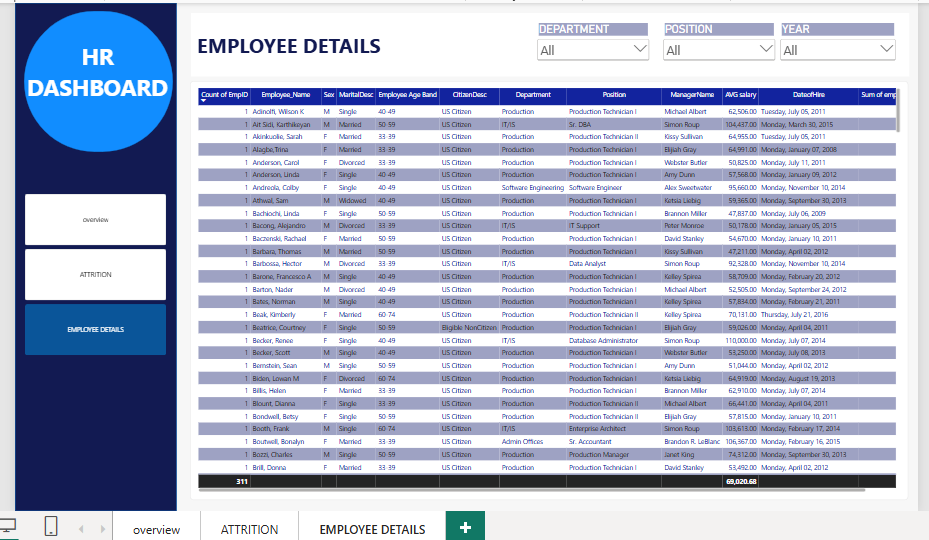

The dashboard page shown, as its layout file describes it:
{"tool":"powerbi","page":{"name":"EMPLOYEE DETAILS","canvas":[1920,1080],"ordinal":2},"visuals":[{"type":"textbox","box":[373.2,22.1,1527.2,135],"z":0},{"type":"shape","box":[0,0,343.7,1080.3],"z":2000},{"type":"shape","box":[19.6,17.2,316.7,299.5],"z":3000},{"type":"textbox","box":[24.6,81,299.5,147.3],"z":4000},{"type":"textbox","box":[386.5,60.2,399.2,76],"z":5000},{"type":"pageNavigator","box":[23.7,405.9,299.3,77],"z":6000},{"type":"slicer","fields":{"Values":["date table.year"]},"box":[1621.3,43.4,255.3,91.9],"z":7000},{"type":"tableEx","fields":{"Values":["CountNonNull(Power BI Project HR DASHBOARD DATA SET.EmpID)","Power BI Project HR DASHBOARD DATA SET.Employee_Name","Power BI Project HR DASHBOARD DATA SET.Sex","Power BI Project HR DASHBOARD DATA SET.MaritalDesc","Power BI Project HR DASHBOARD DATA SET.Employee Age Band","Power BI Project HR DASHBOARD DATA SET.CitizenDesc","Power BI Project HR DASHBOARD DATA SET.Department","Power BI Project HR DASHBOARD DATA SET.Position","Power BI Project HR DASHBOARD DATA SET.ManagerName","Power BI Project HR DASHBOARD DATA SET.AVG salary","Power BI Project HR DASHBOARD DATA SET.DateofHire","Sum(Power BI Project HR DASHBOARD DATA SET.employee age)"]},"box":[372.8,166,1526.8,891.1],"z":8000},{"type":"pageNavigator","box":[22.2,405.5,301,345.3],"z":9000},{"type":"slicer","fields":{"Values":["Power BI Project HR DASHBOARD DATA SET.Position"]},"box":[1373.6,43.4,247.7,91.9],"z":10000},{"type":"slicer","fields":{"Values":["Power BI Project HR DASHBOARD DATA SET.Department"]},"box":[1105.5,43.4,247.7,91.9],"z":11000}]}

Visuals, with their boxes on the page's 1920x1080 design canvas (x1, y1, x2, y2). These are canvas units, not pixel positions in the 929x540 screenshot, which may show the page scaled, cropped or inside an application window:
textbox: detection(373, 22, 1900, 157)
shape: detection(0, 0, 344, 1080)
shape: detection(20, 17, 336, 317)
textbox: detection(25, 81, 324, 228)
textbox: detection(386, 60, 786, 136)
pageNavigator: detection(24, 406, 323, 483)
slicer - date table.year: detection(1621, 43, 1877, 135)
tableEx - CountNonNull(Power BI Project HR DASHBOARD DATA SET.EmpID) x Power BI Project HR DASHBOARD DATA SET.Employee_Name: detection(373, 166, 1900, 1057)
pageNavigator: detection(22, 406, 323, 751)
slicer - Power BI Project HR DASHBOARD DATA SET.Position: detection(1374, 43, 1621, 135)
slicer - Power BI Project HR DASHBOARD DATA SET.Department: detection(1106, 43, 1353, 135)
